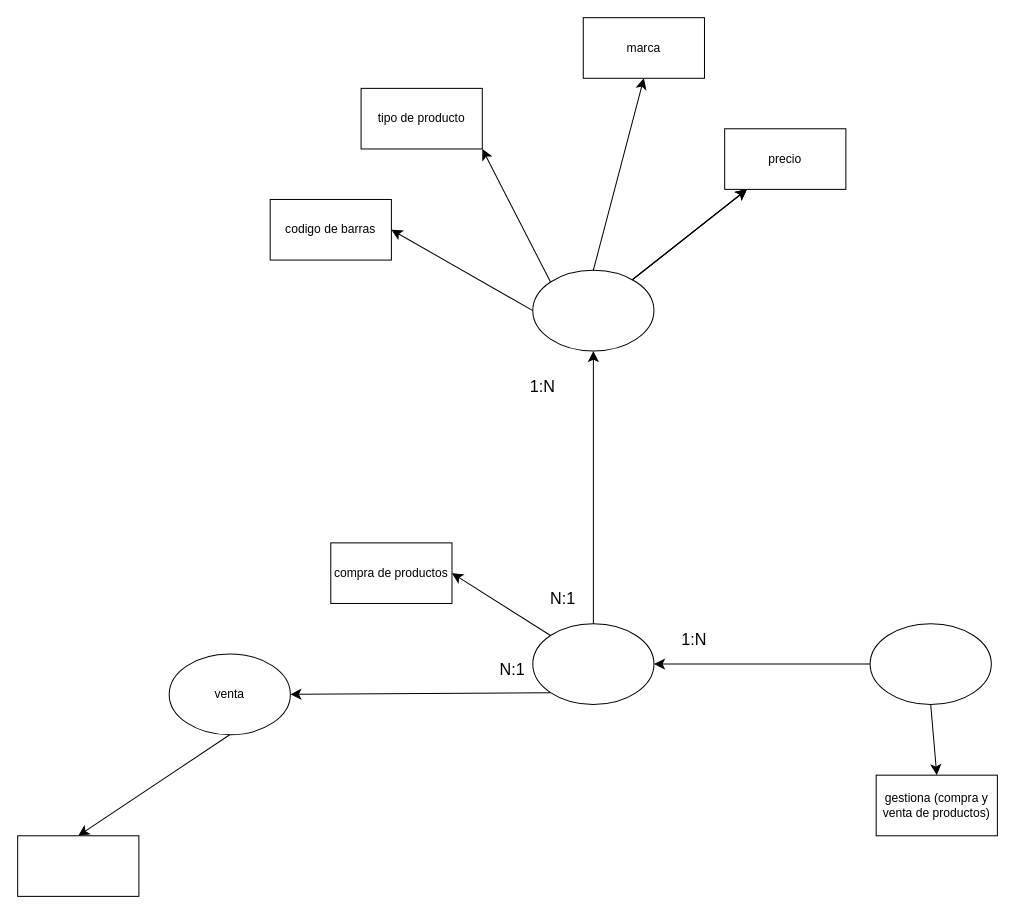
The diagram is 1015 pixels wide and 914 high, and some of its shapes have lost their labels. The centre of each missing label's shape, as x and y in pixels:
id_ventas: the point at 78,865
inventario: the point at 593,663
productos: the point at 593,310
usuario: the point at 930,663
